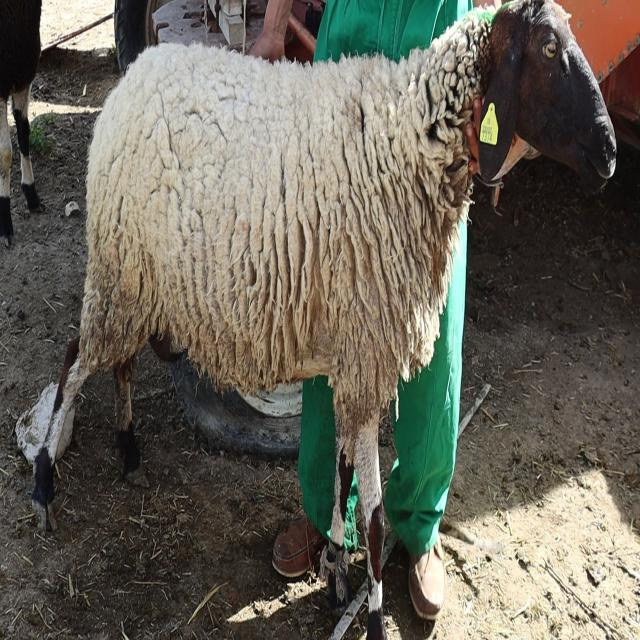Score_3: (32, 0, 616, 639)
